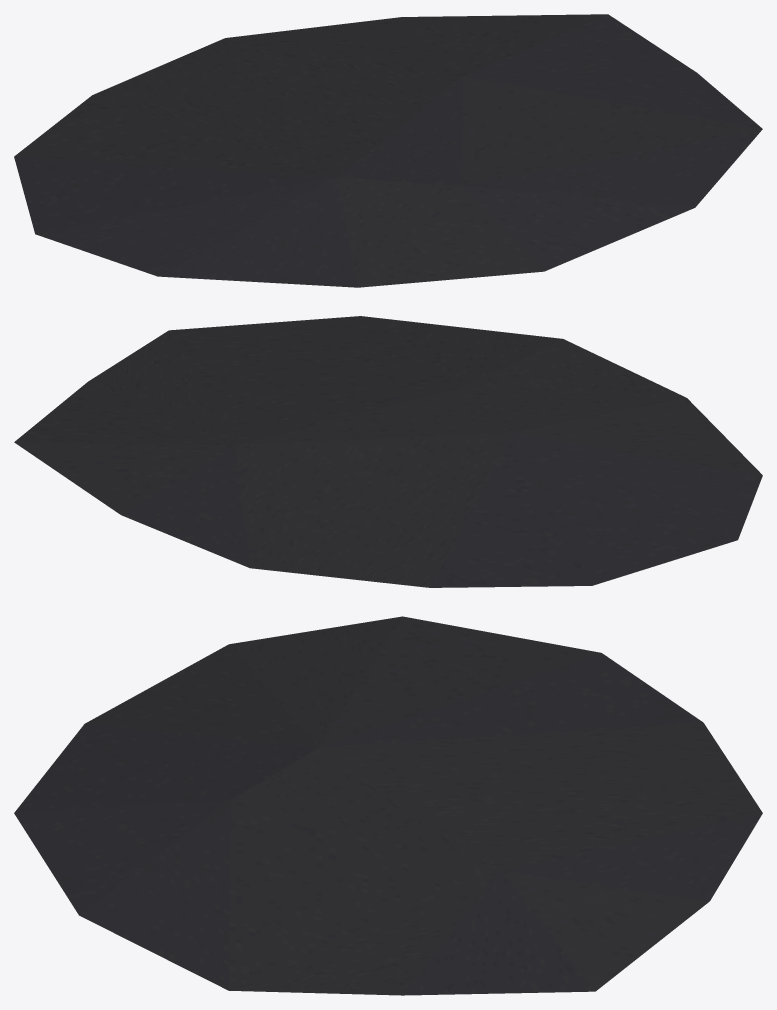
The model's file is plastic_sheet_small.glb.
3 renders of one model, top to bottom at view 1: azimuth 30°, elevation 25°; view 2: azimuth 150°, elevation 25°; view 3: azimuth 270°, elevation 25°, orthographic. The views are drawn at different scales.
Visible parts, largest first — view 1: block_sheet; view 2: block_sheet; view 3: block_sheet.
Boxes of the visible parts, x1,y1,x2,y2 form: block_sheet: (14,14,762,287); block_sheet: (14,316,762,587); block_sheet: (14,616,762,995).
Bounding box in the file's own units: 0.2273 × 0.00597 × 0.1898.
Materials: 1 (1 with a texture image).
